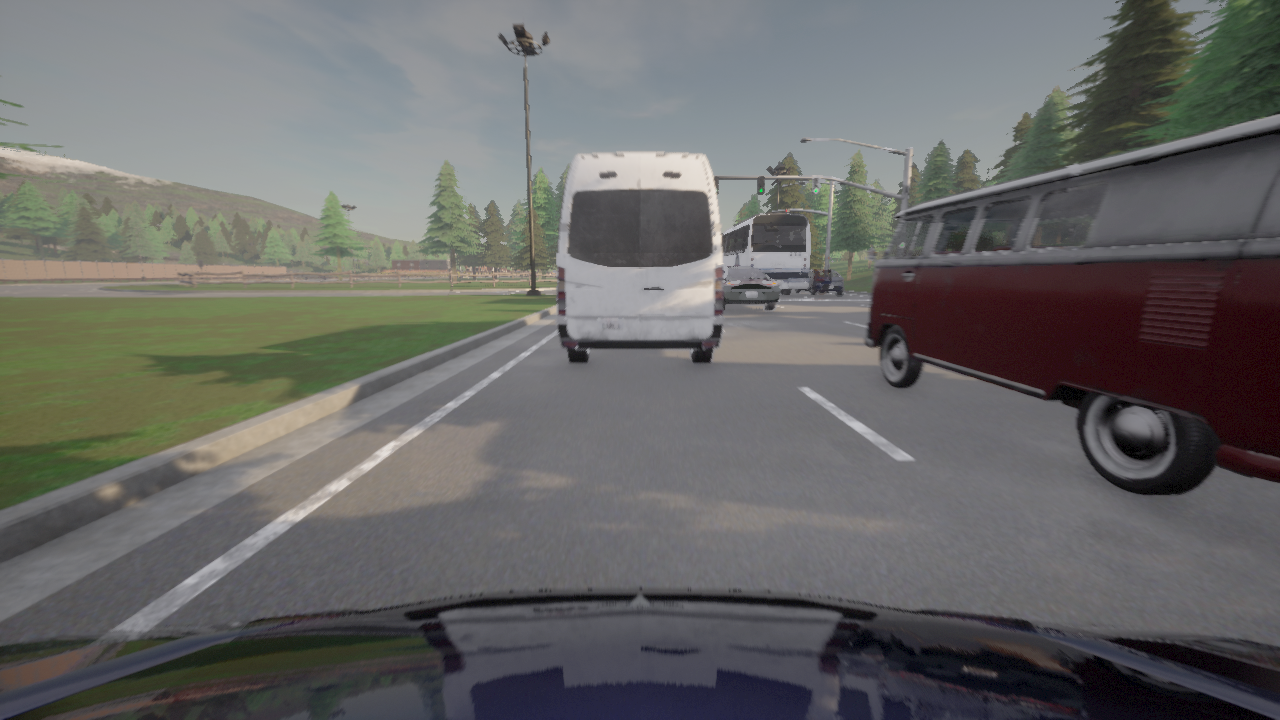cyclist: (0, 588, 1279, 719), (865, 114, 1279, 495), (556, 152, 723, 363), (722, 213, 809, 295), (723, 264, 780, 310), (793, 269, 843, 295)
